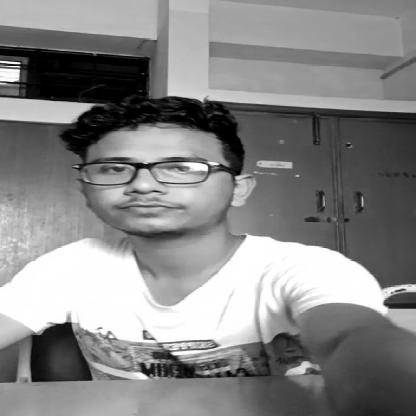Normal: (53, 106, 263, 242)
